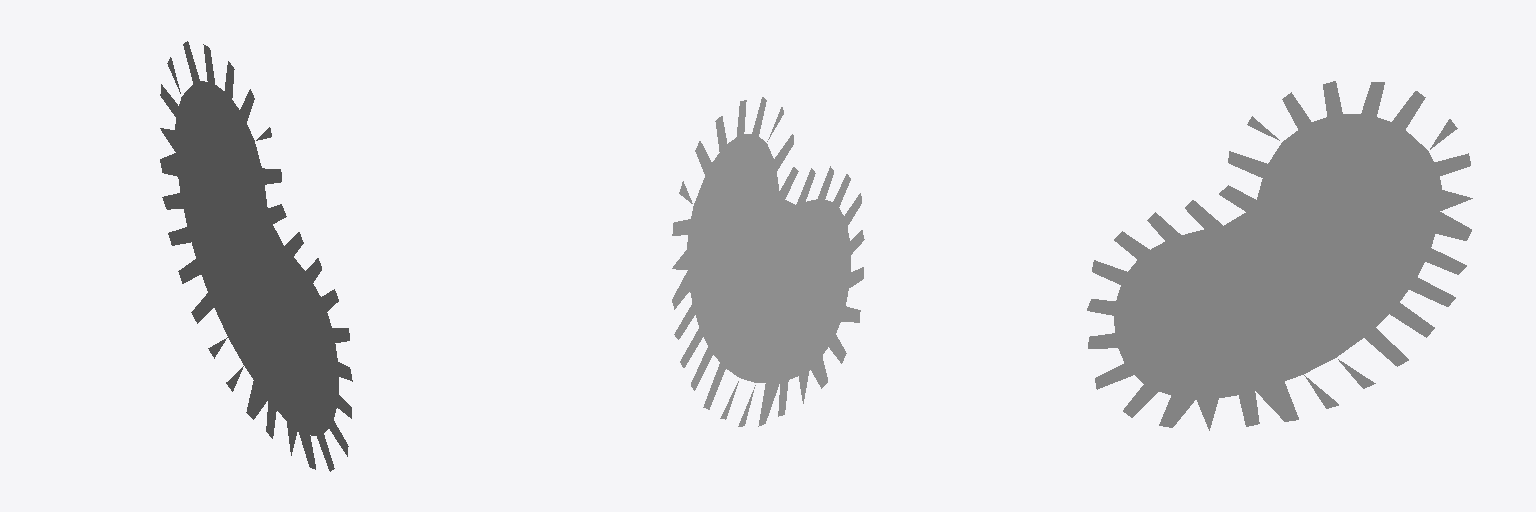
The model's file is AStarEnemy_hitbox.obj.
3 renders of one model, left to right at view 1: azimuth 30°, elevation 25°; view 2: azimuth 150°, elevation 25°; view 3: azimuth 270°, elevation 25°, orthographic.
Visible parts, largest first — view 1: path0; view 2: path0; view 3: path0.
Boxes of the visible parts, x1=… form: path0: x1=160, y1=41, x2=352, y2=471; path0: x1=672, y1=97, x2=864, y2=426; path0: x1=1087, y1=81, x2=1472, y2=430.
Size of the model in its own units: 0 by 0.1133 by 0.1132.